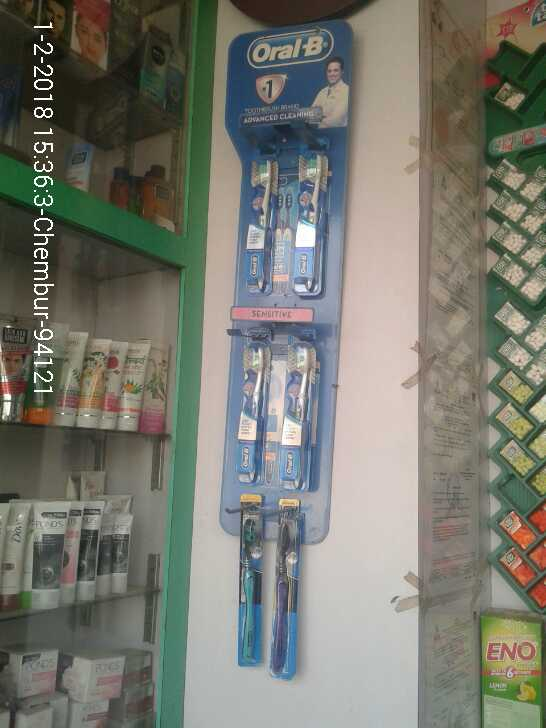oralb: (265, 514, 301, 678), (293, 150, 334, 291), (283, 348, 313, 481), (246, 162, 277, 290), (232, 517, 258, 666), (236, 339, 263, 479)
